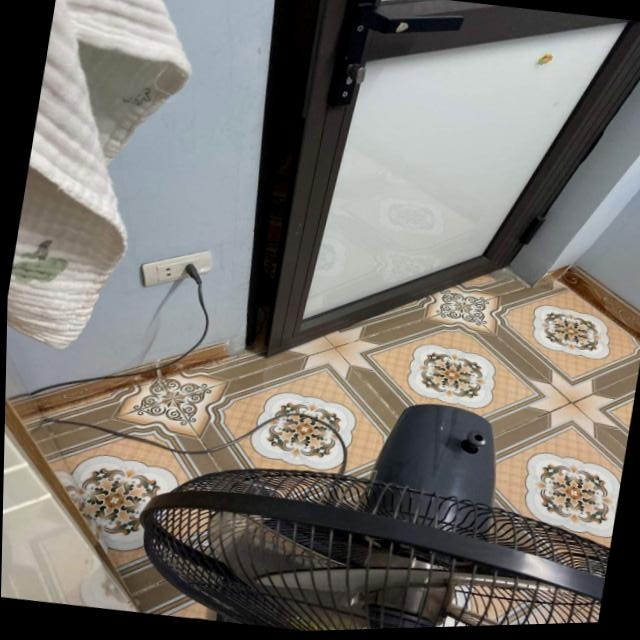outlet: (137, 241, 214, 297)
